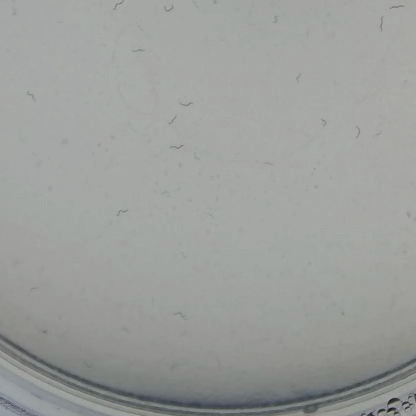worm: (8, 84, 39, 116), (258, 10, 292, 33), (254, 152, 285, 176), (350, 116, 371, 145), (11, 282, 40, 302), (150, 113, 186, 129), (112, 200, 133, 227), (287, 65, 309, 90), (371, 11, 390, 39), (153, 2, 180, 21), (167, 135, 197, 152), (173, 305, 198, 325), (380, 1, 415, 15), (124, 44, 152, 61), (109, 0, 132, 18), (175, 90, 201, 105), (319, 113, 335, 130)
